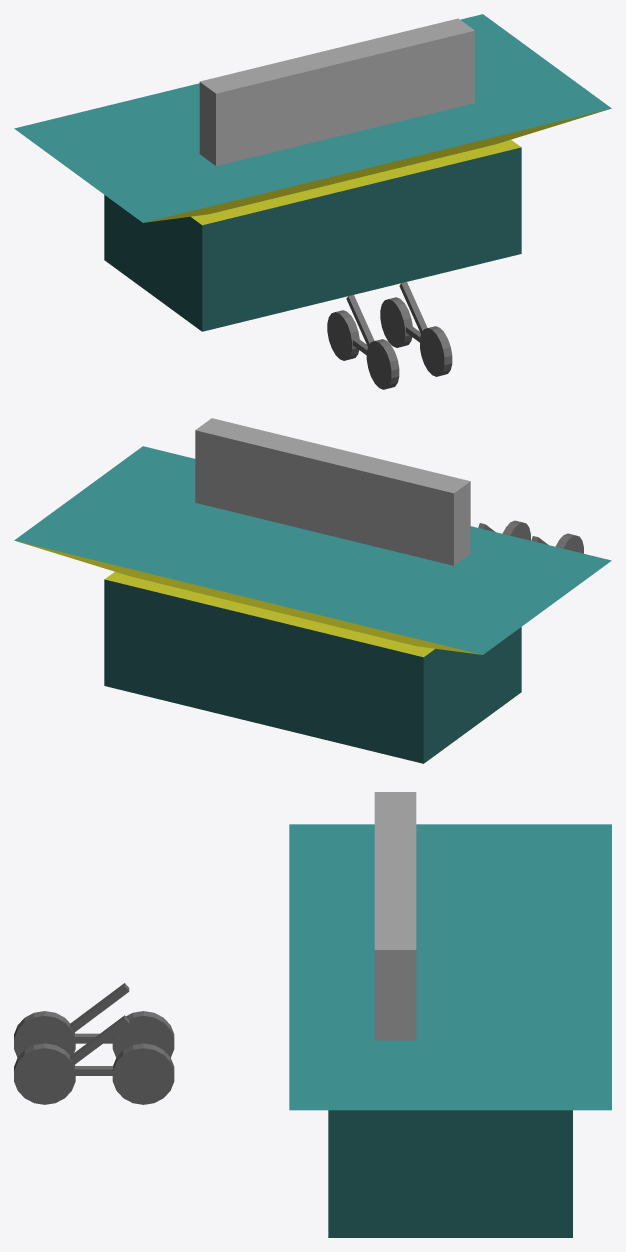
The model's file is ciclo-paque.DAE.
3 renders of one model, top to bottom at view 1: azimuth 30°, elevation 25°; view 2: azimuth 150°, elevation 25°; view 3: azimuth 270°, elevation 25°, orthographic. The views are drawn at different scales.
Parts seen in each view (by area): view 1: SketchUp (×4), Cylinder00_1, Cylinder03_1, Cylinder01_1, Cylinder02_1; view 2: SketchUp (×4); view 3: SketchUp (×3), Cylinder02_1, Cylinder03_1, Cylinder00_1, Cylinder01_1, Box004_1, Box006_1.
Boxes of the visible parts, x1,y1,x2,y2 form: SketchUp (×4): (14,14,611,331); Cylinder00_1: (366,339,399,389); Cylinder03_1: (420,326,452,376); Cylinder01_1: (327,310,359,360); Cylinder02_1: (380,297,412,347); SketchUp (×4): (14,418,611,763); SketchUp (×3): (289,792,611,1237); Cylinder02_1: (112,1043,174,1104); Cylinder03_1: (14,1043,75,1104); Cylinder00_1: (14,1011,75,1057); Cylinder01_1: (112,1011,174,1057); Box004_1: (70,983,129,1033); Box006_1: (70,1015,129,1065).
Size of the model in its own units: 328 by 290 by 145.
